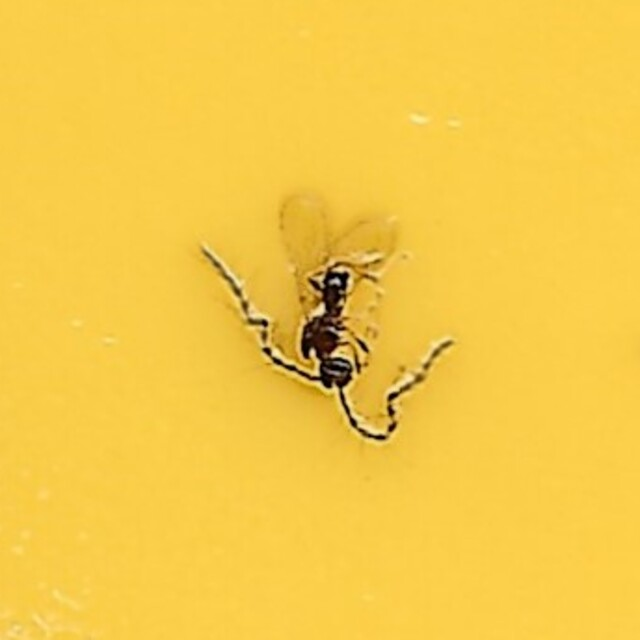Hymenoptera: (186, 191, 454, 449)
